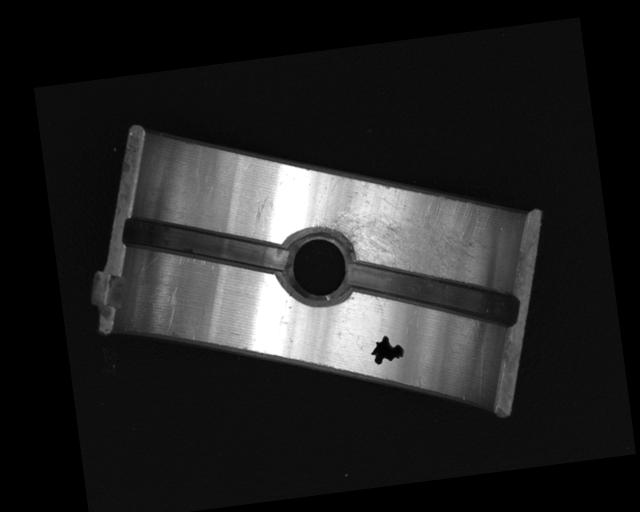blot: (366, 331, 406, 366)
gap: (347, 243, 517, 345), (121, 197, 290, 290)
hole: (277, 223, 360, 314)
nick: (159, 287, 184, 334)
scratch: (310, 149, 498, 299)
